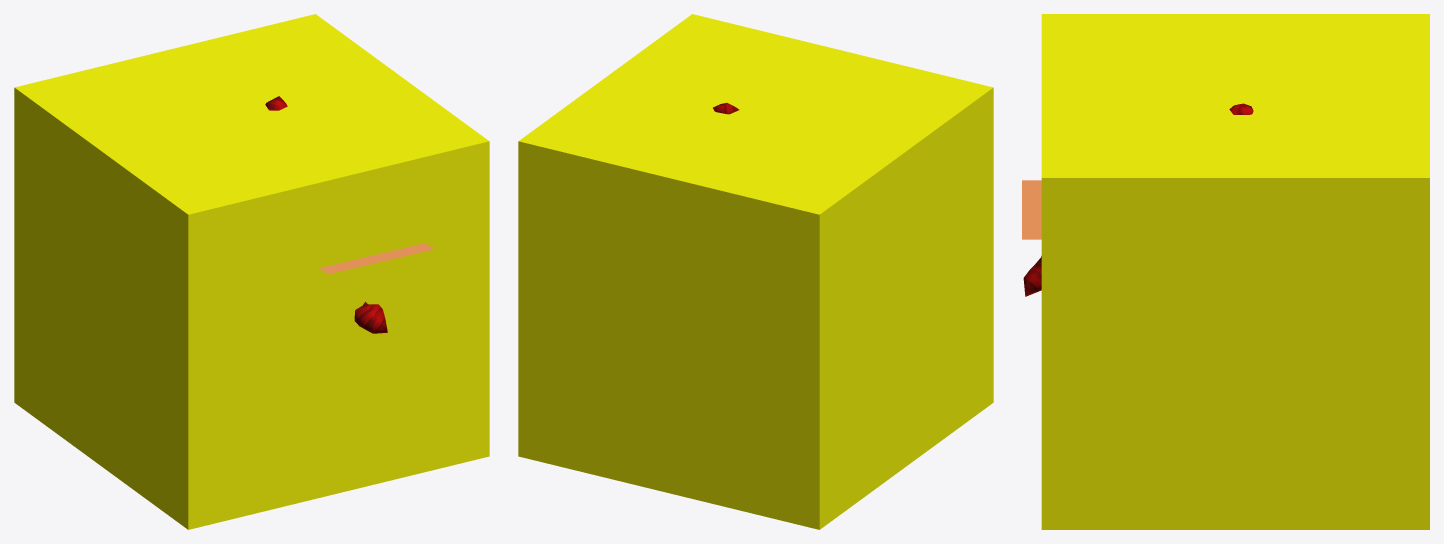
3 renders of one model, left to right at view 1: azimuth 30°, elevation 25°; view 2: azimuth 150°, elevation 25°; view 3: azimuth 270°, elevation 25°, orthographic. The views are drawn at different scales.
Visible parts, largest first — view 1: object0048_Box, object0005_C1281, object0077_Plane; view 2: object0048_Box; view 3: object0048_Box, object0077_Plane, object0005_C1281.
Boxes of the visible parts, x1=… form: object0048_Box: x1=14, y1=14, x2=489, y2=529; object0005_C1281: x1=265, y1=96, x2=387, y2=333; object0077_Plane: x1=319, y1=243, x2=433, y2=274; object0048_Box: x1=518, y1=14, x2=993, y2=529; object0048_Box: x1=1041, y1=14, x2=1429, y2=529; object0077_Plane: x1=1022, y1=180, x2=1041, y2=239; object0005_C1281: x1=1023, y1=103, x2=1253, y2=296.
Bounding box in the file's own units: 0.5 × 0.5096 × 0.525.
